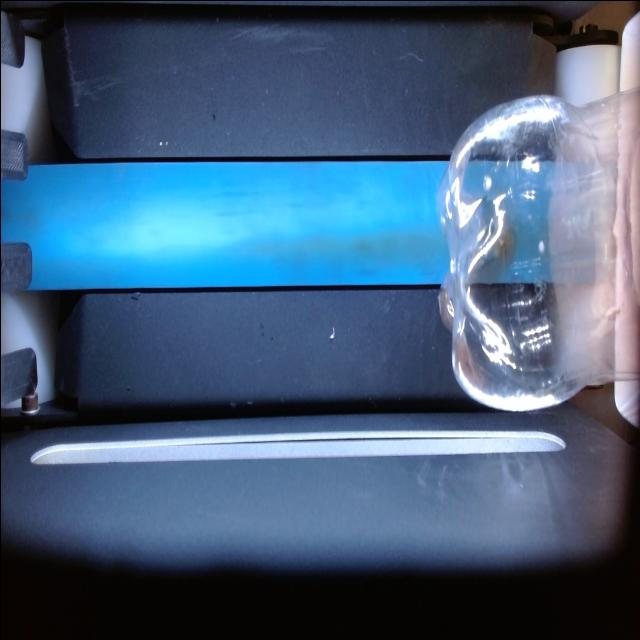bottom: (434, 80, 557, 431)
